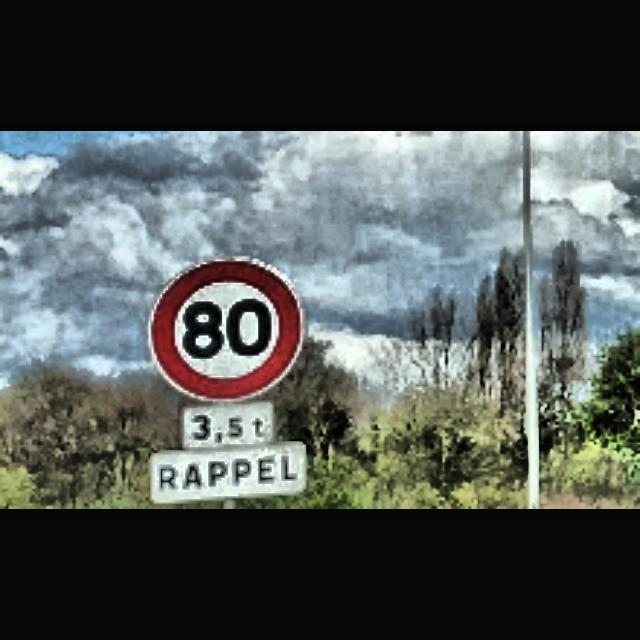speed_80: (149, 253, 307, 403)
